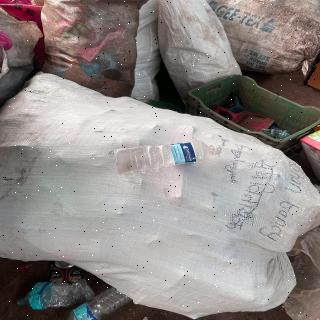Plastic-bottle: (113, 138, 224, 178), (14, 278, 90, 311), (67, 286, 135, 320)
